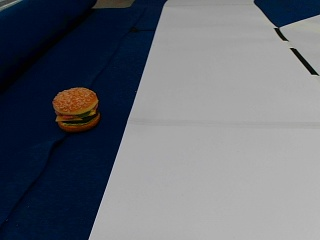burger: (52, 86, 101, 130)
